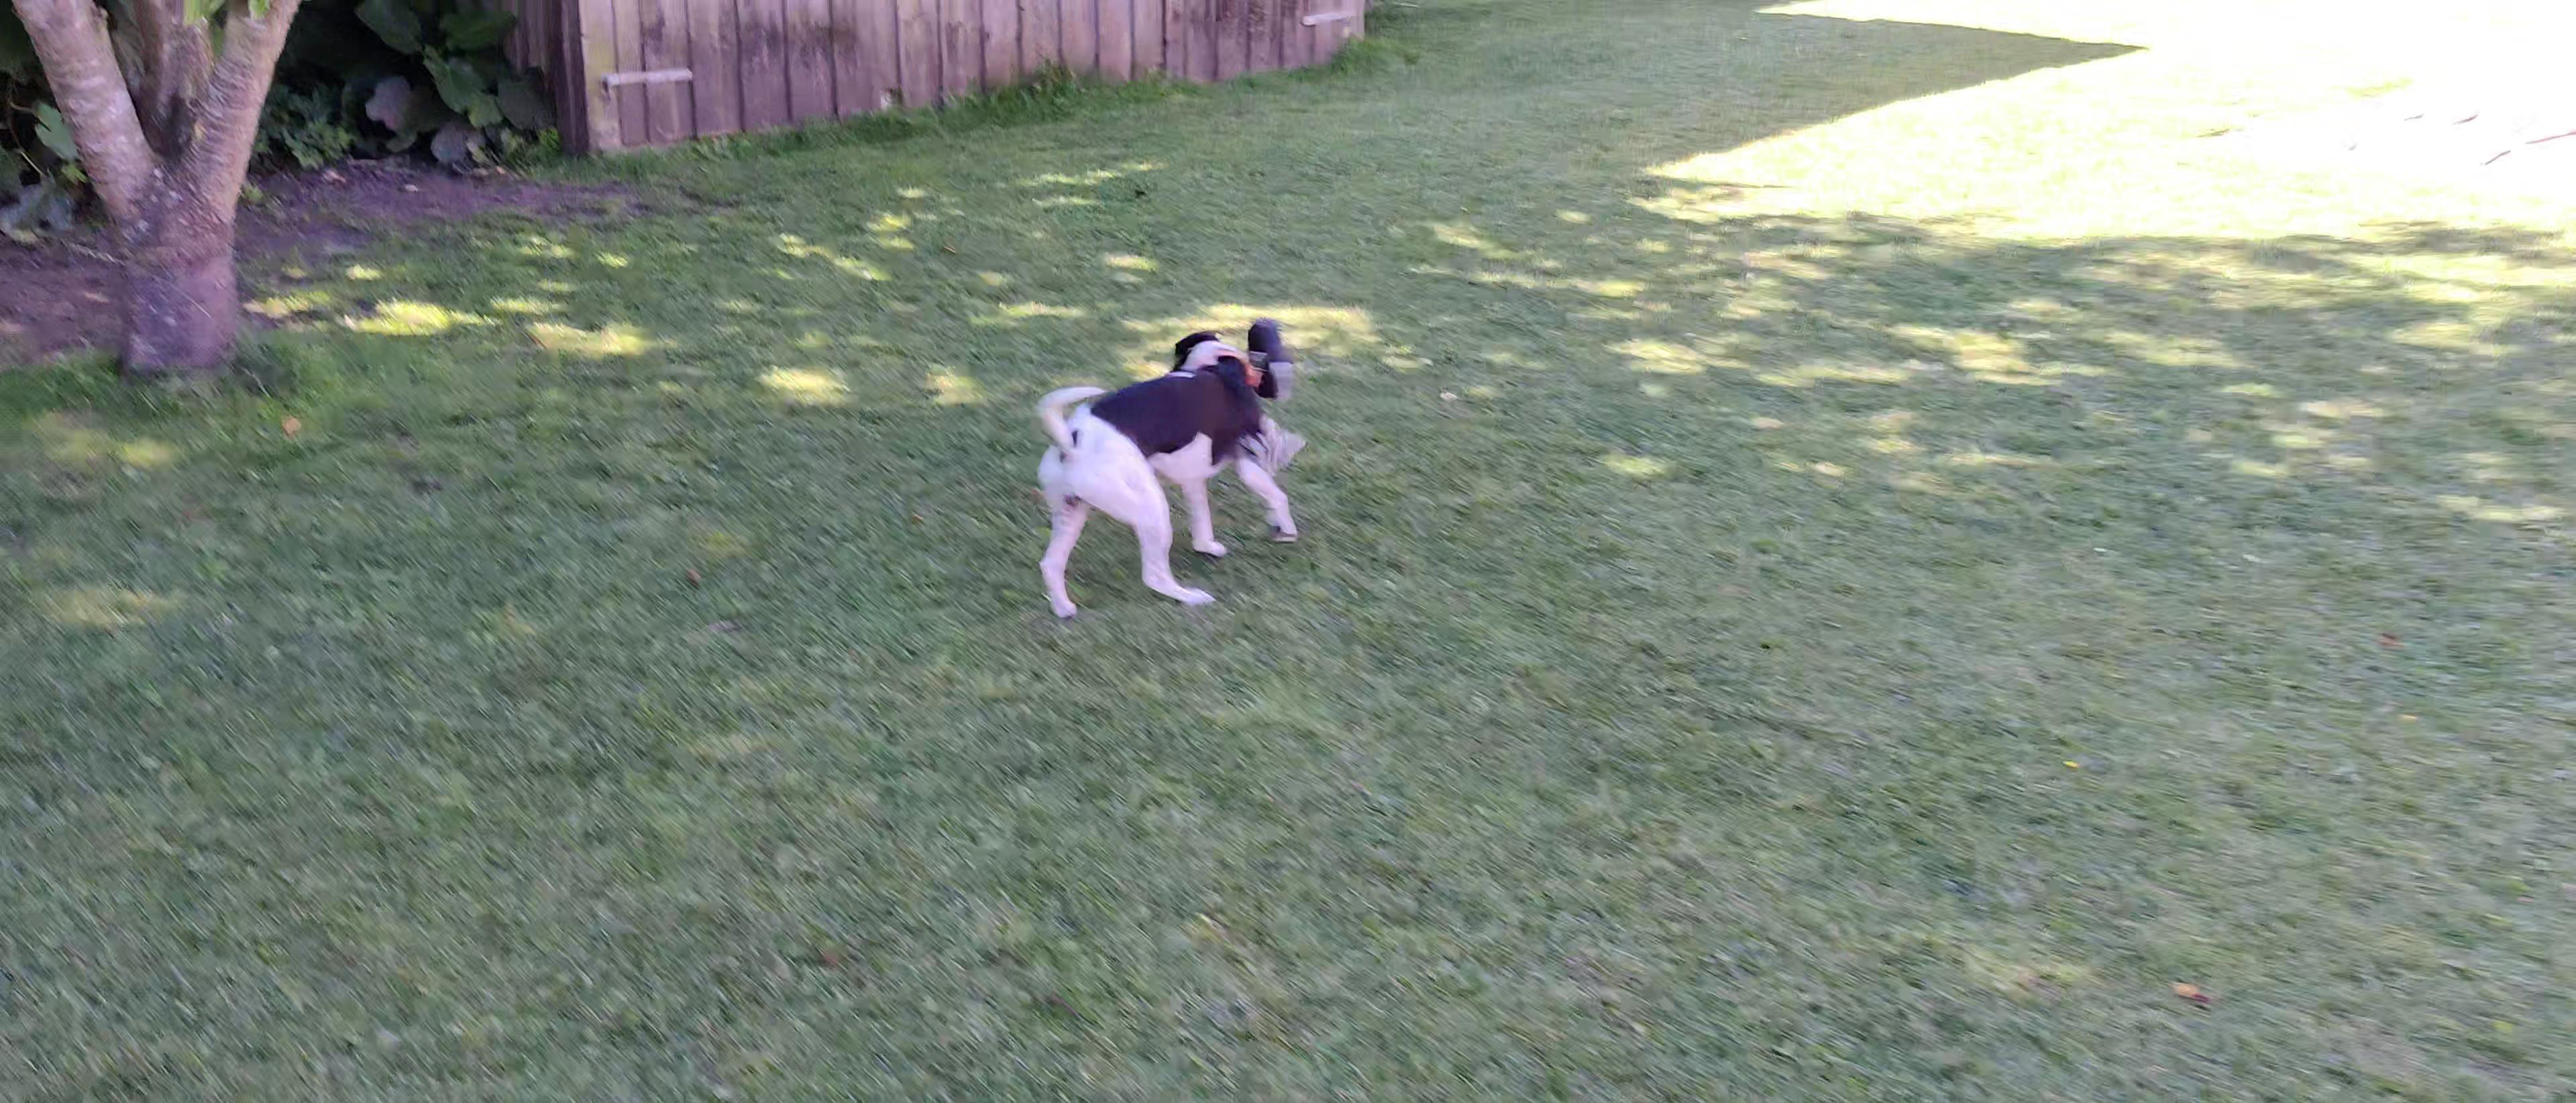Dog: (1025, 317, 1309, 628)
